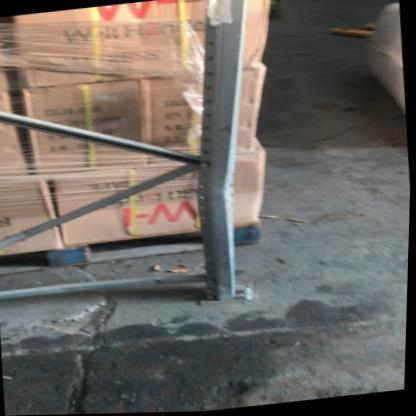vertical_damage: (199, 153, 247, 220)
